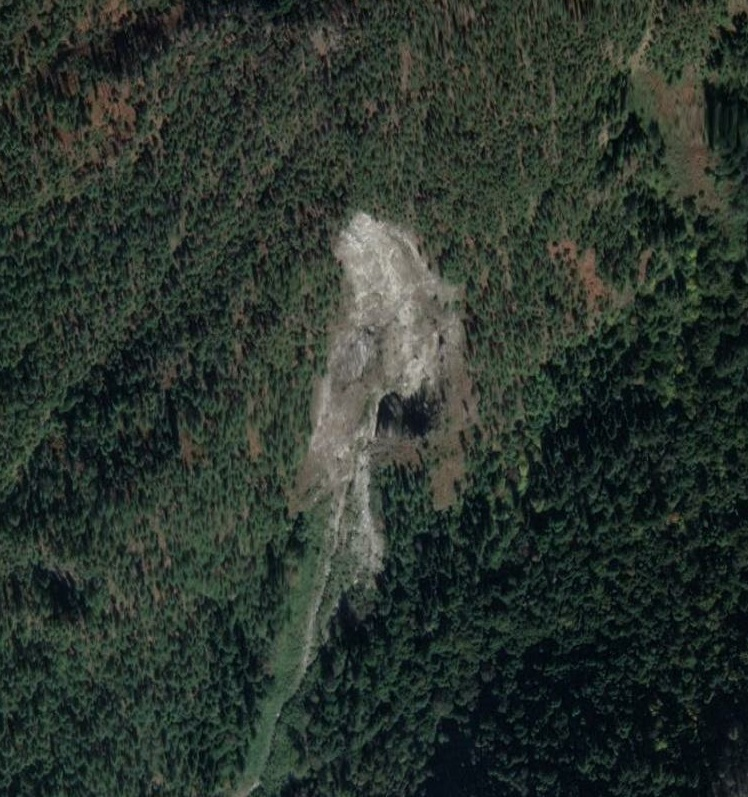slope: (284, 209, 479, 589)
